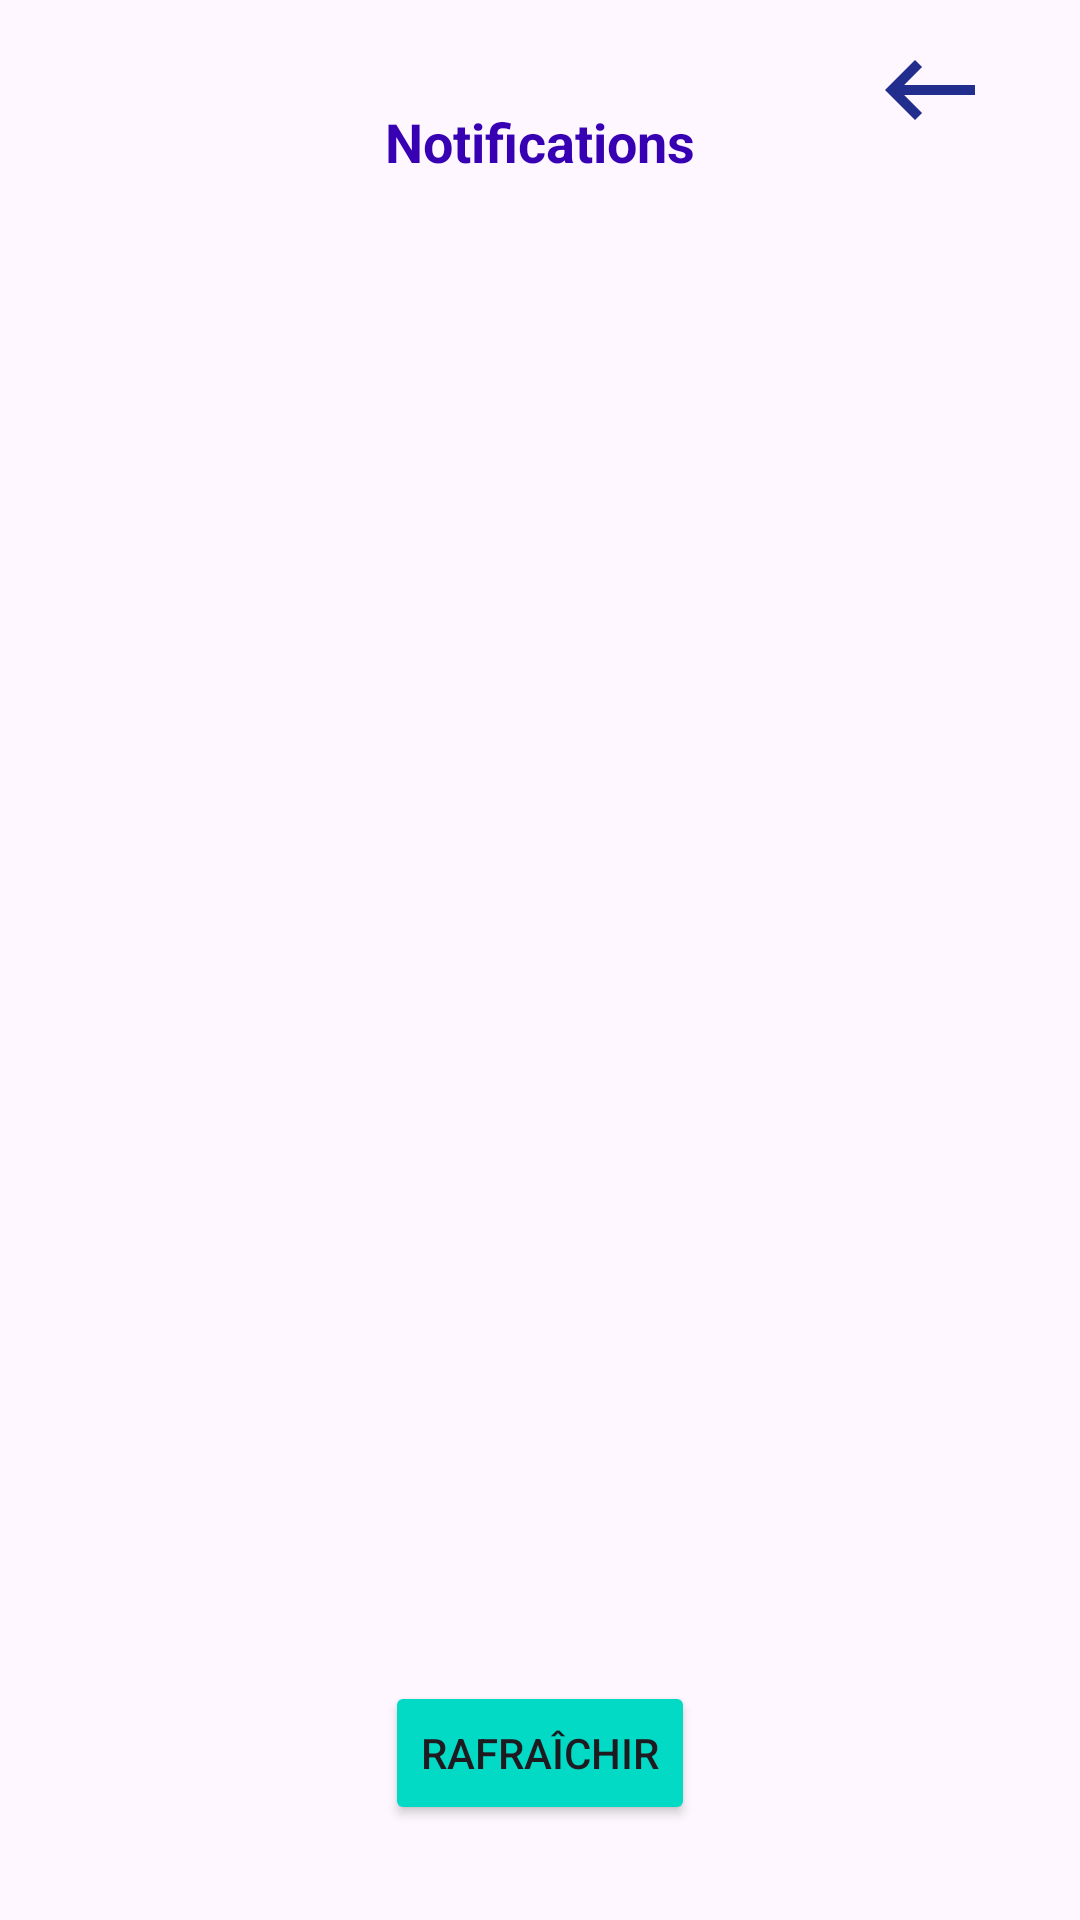

Icon click points for this 1080w x 1920h phone screenshot, format (x=x, y=y):
back: (x=930, y=90)
